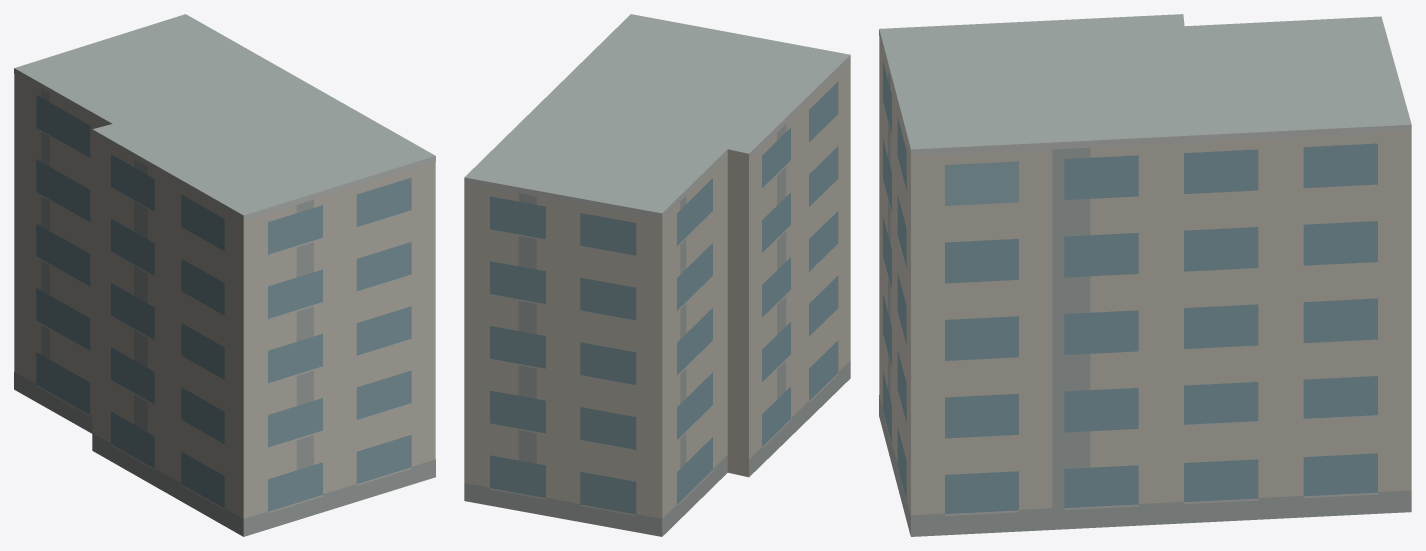
Rendered from survey-upis-32979369.glb.
3 renders of one model, left to right at view 1: azimuth 30°, elevation 25°; view 2: azimuth 150°, elevation 25°; view 3: azimuth 270°, elevation 25°, orthographic. The views are drawn at different scales.
Parts seen in each view (by area): view 1: survey-upis-32979369.tmp; view 2: survey-upis-32979369.tmp; view 3: survey-upis-32979369.tmp.
Boxes of the visible parts, x1,y1,x2,y2 form: survey-upis-32979369.tmp: (14,14,435,536); survey-upis-32979369.tmp: (464,14,850,536); survey-upis-32979369.tmp: (879,14,1411,536).
Bounding box in the file's own units: 10.06 × 13.4 × 16.71.
